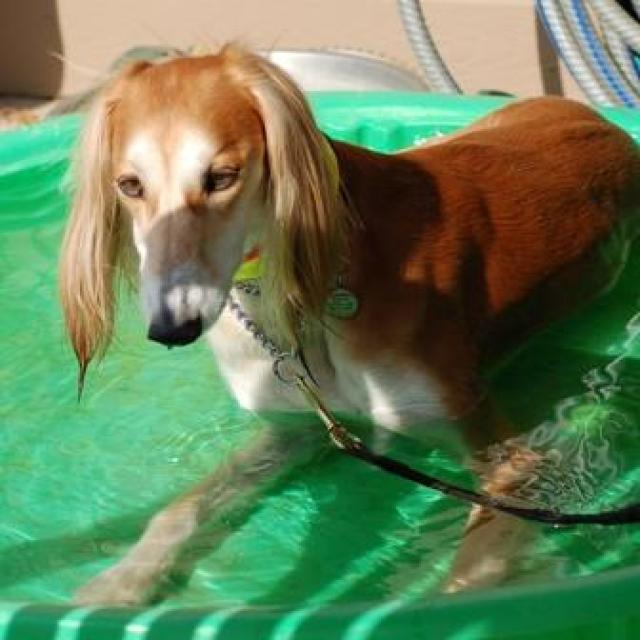saluki: (55, 37, 638, 608)
